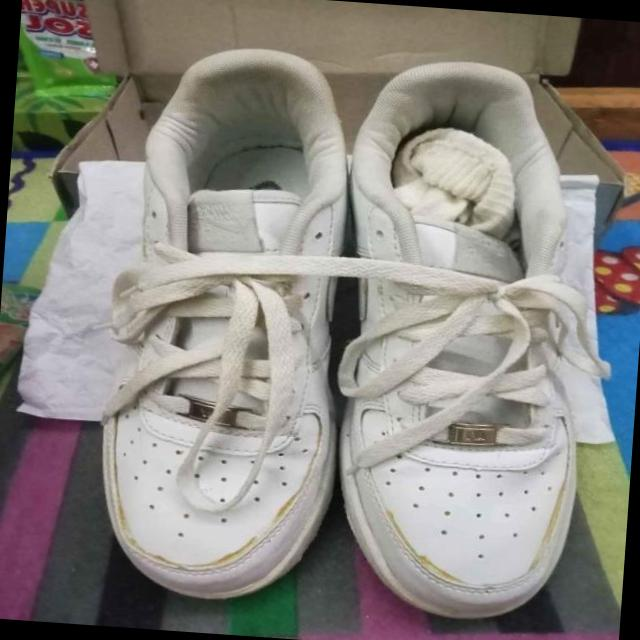nike_fake_airforce: (312, 37, 612, 632), (90, 38, 368, 608)
